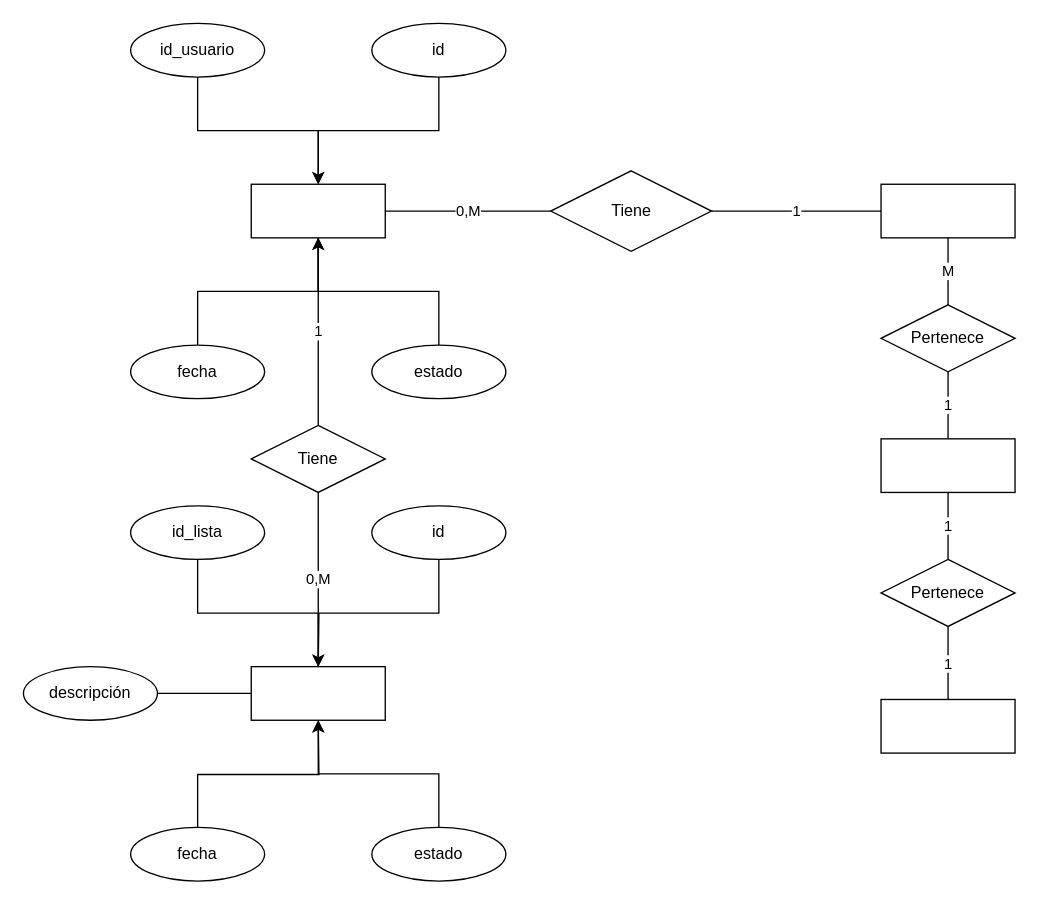
Image size: 1039x905. Some labels were removed from this diagram. The box of each missing label's shape, as (x1, y1, x2, y2) in pixels:
Deoartamento: (880, 438, 1015, 492)
Gerencia: (880, 698, 1015, 753)
Lista: (250, 183, 385, 238)
Tarea: (250, 665, 385, 720)
Usuario: (880, 183, 1015, 238)
